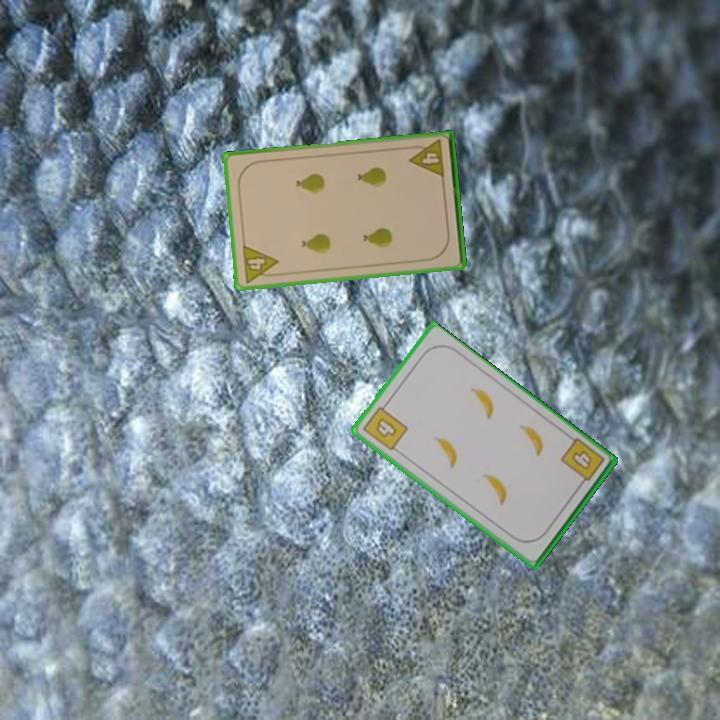4b: (359, 399, 411, 454), (557, 435, 607, 490)
4p: (239, 241, 282, 286), (405, 136, 447, 181)
